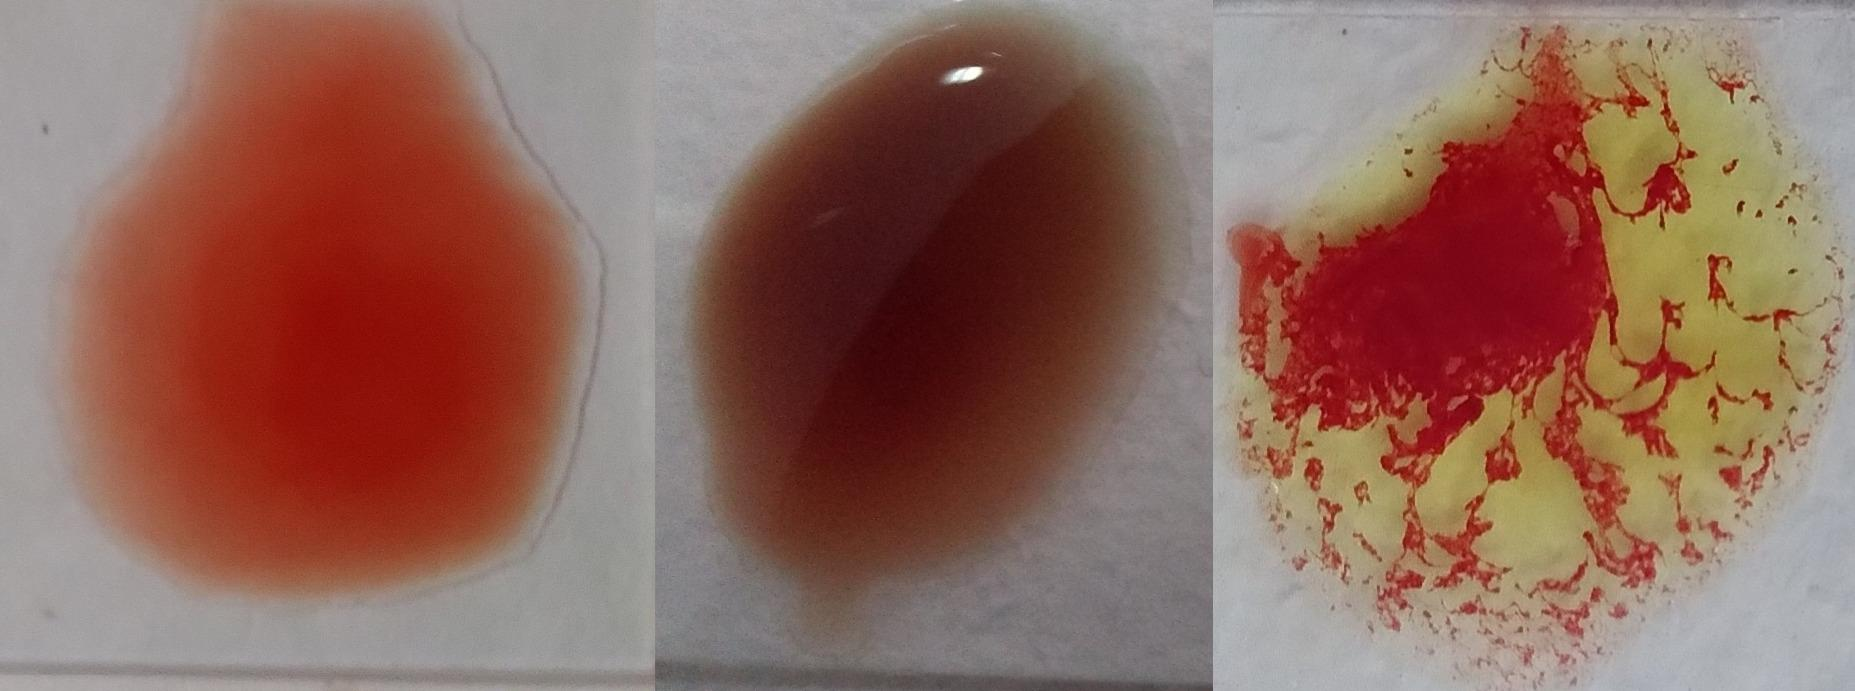B: (1224, 0, 1841, 691)
